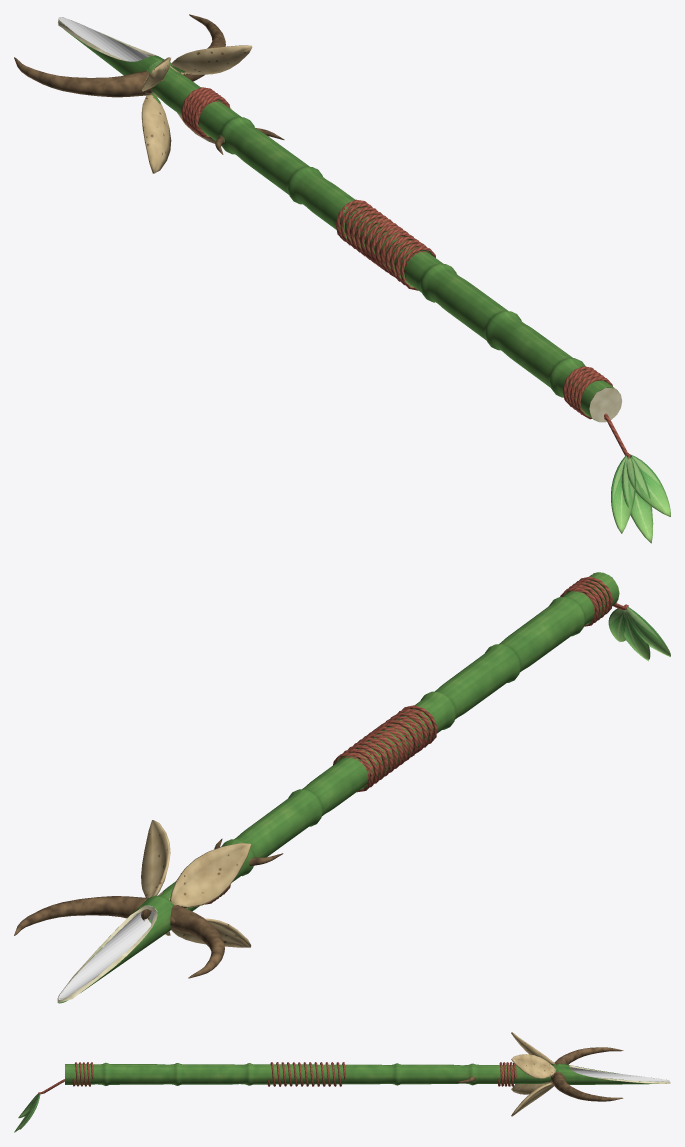
Rendered from Spear1.fbx.
3 views of the same model, one above another, from view 1: azimuth 30°, elevation 25°; view 2: azimuth 150°, elevation 25°; view 3: azimuth 270°, elevation 25° (orthographic). The views are drawn at different scales.
Visible parts, largest first — view 1: Spear1_Body, Spear1_Glow_3caaff; view 2: Spear1_Body, Spear1_Glow_3caaff; view 3: Spear1_Body, Spear1_Glow_3caaff.
Part boxes in pixels (box(x1,y1,x2,y2)): Spear1_Body: box(14, 14, 670, 543); Spear1_Glow_3caaff: box(58, 17, 158, 70); Spear1_Body: box(14, 572, 670, 1003); Spear1_Glow_3caaff: box(58, 905, 157, 999); Spear1_Body: box(14, 1032, 670, 1132); Spear1_Glow_3caaff: box(570, 1067, 670, 1082).
Size of the model in its own units: 1.75 by 1.38 by 9.38.
Materials: 2 (1 with a texture image).
